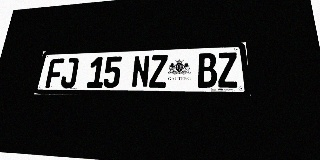1: (87, 57, 106, 88)
5: (103, 56, 122, 88)
B: (197, 53, 218, 88)
F: (45, 58, 64, 88)
J: (60, 58, 79, 88)
N: (131, 55, 150, 88)
Z: (217, 52, 239, 88), (149, 55, 168, 88)
